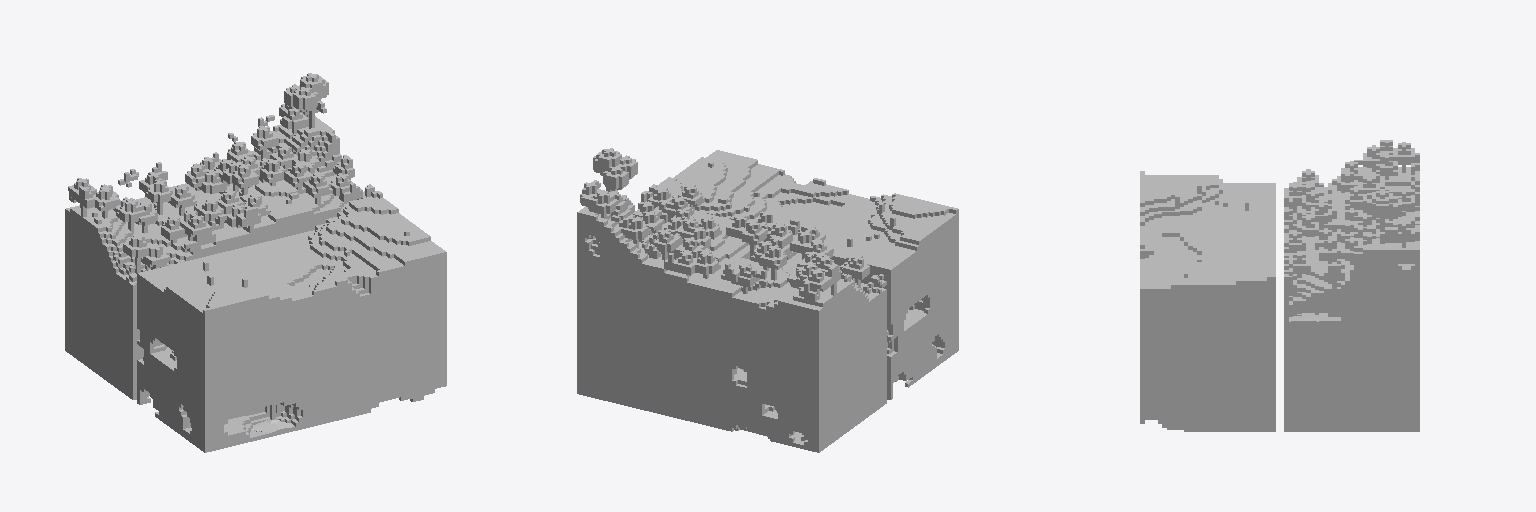
Rendered from large-desert-forest.obj.
The picture shows the model from 3 angles: view 1: azimuth 30°, elevation 25°; view 2: azimuth 150°, elevation 25°; view 3: azimuth 270°, elevation 25°; orthographic projection.
Visible parts, largest first — view 1: Honors_World__92_141_-445_to_155_211_-382; view 2: Honors_World__92_141_-445_to_155_211_-382; view 3: Honors_World__92_141_-445_to_155_211_-382.
Part boxes in pixels (x1,y1,x2,y2): Honors_World__92_141_-445_to_155_211_-382: (65, 73, 446, 452); Honors_World__92_141_-445_to_155_211_-382: (577, 148, 958, 452); Honors_World__92_141_-445_to_155_211_-382: (1140, 140, 1419, 431).
Size of the model in its own units: 64 by 59 by 64.